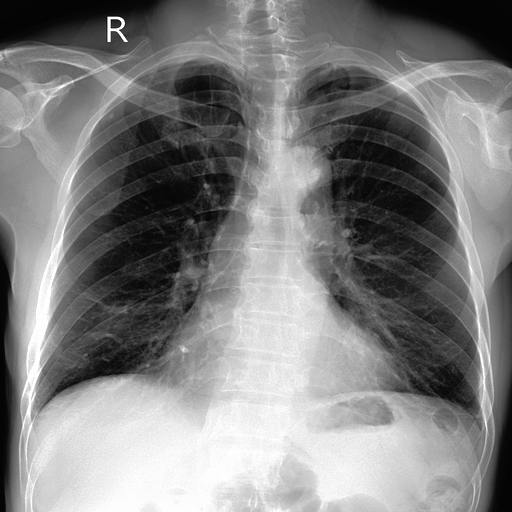Calcification: (134, 53, 220, 79), (318, 56, 393, 77)
Consolidation: (281, 147, 333, 197)
Pneumothorax: (68, 285, 131, 368), (189, 68, 218, 157)
Pulmonary fibrosis: (108, 113, 114, 120)
